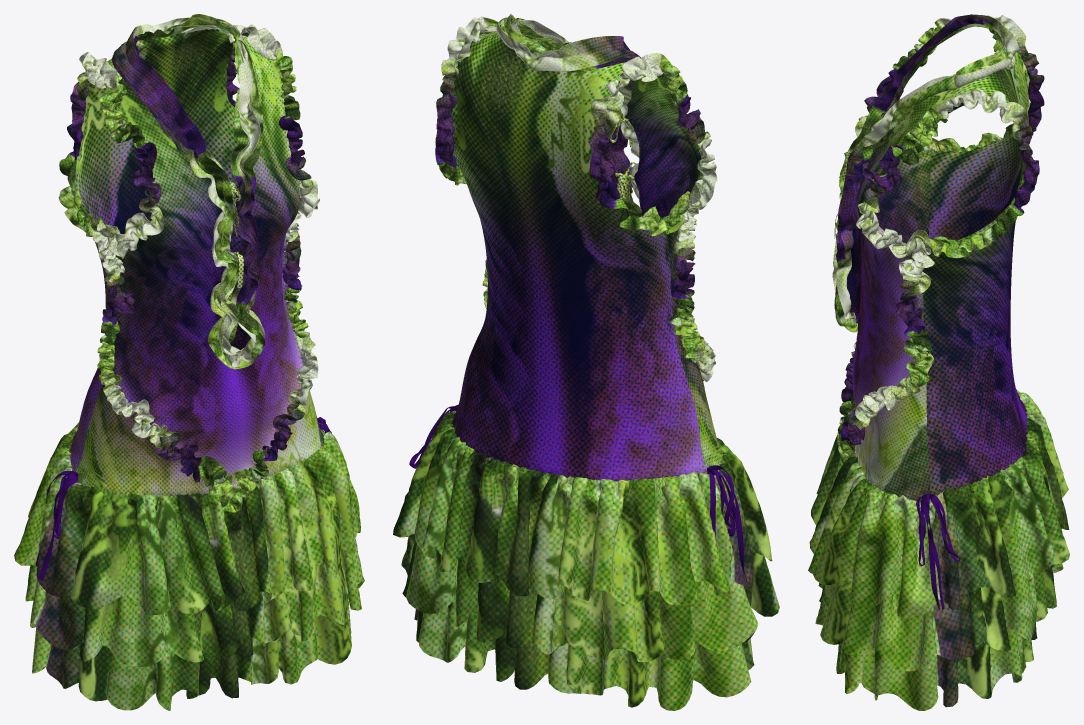
The model's file is vestidolechuga.glb.
3 renders of one model, left to right at view 1: azimuth 30°, elevation 25°; view 2: azimuth 150°, elevation 25°; view 3: azimuth 270°, elevation 25°, orthographic. The views are drawn at different scales.
Visible parts, largest first — view 1: Cloth.002; view 2: Cloth.002; view 3: Cloth.002.
Part boxes in pixels (x1,y1,x2,y2): Cloth.002: (14, 14, 364, 710); Cloth.002: (393, 14, 779, 710); Cloth.002: (808, 14, 1069, 710).
Bounding box in the file's own units: 0.5456 × 1.02 × 0.3892.
5 materials, 5 textured.
